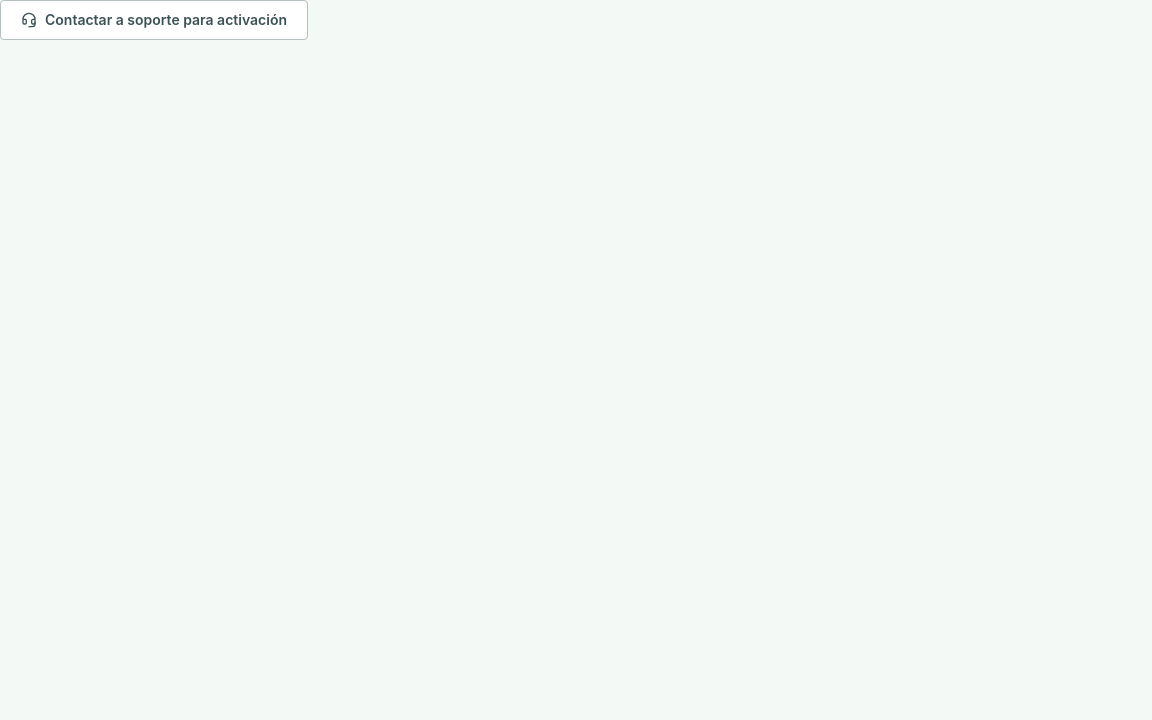
SolicitudActivacion › no envía si el teléfono o el correo no son válidos
Click the button "Contactar a soporte para activación" at (154, 20), box [0,0,308,40]
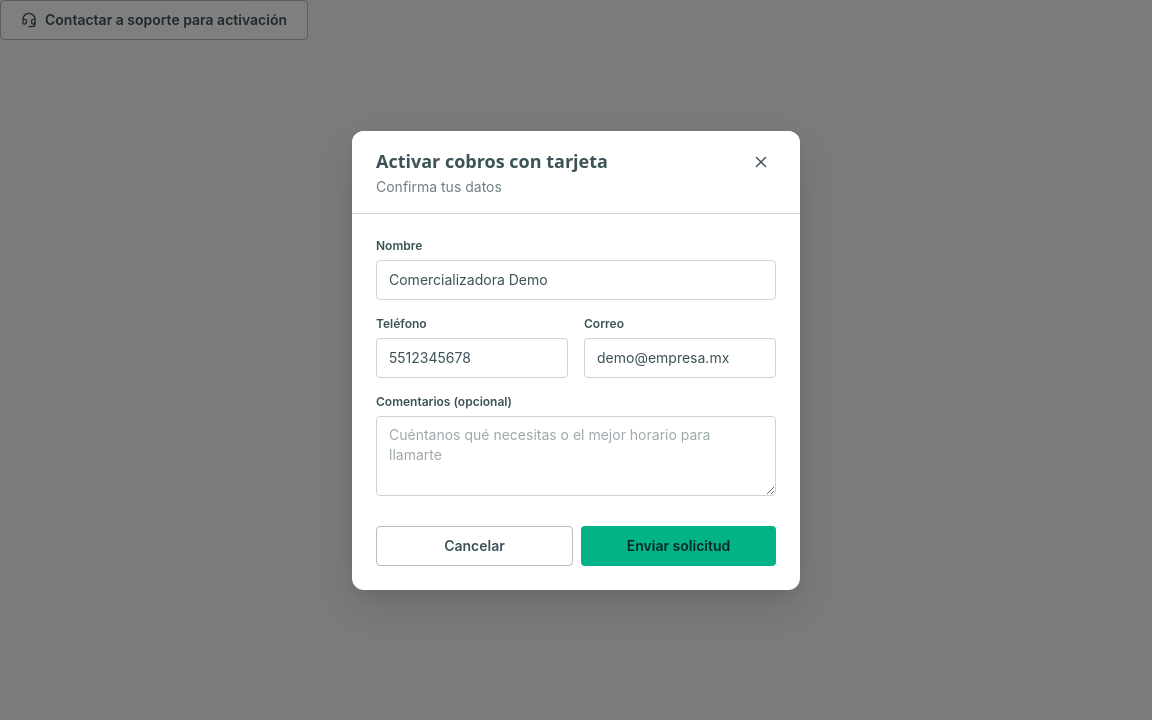
Replace the text in the field labelled "Teléfono" with "123" at (472, 358), box [376,338,568,378]
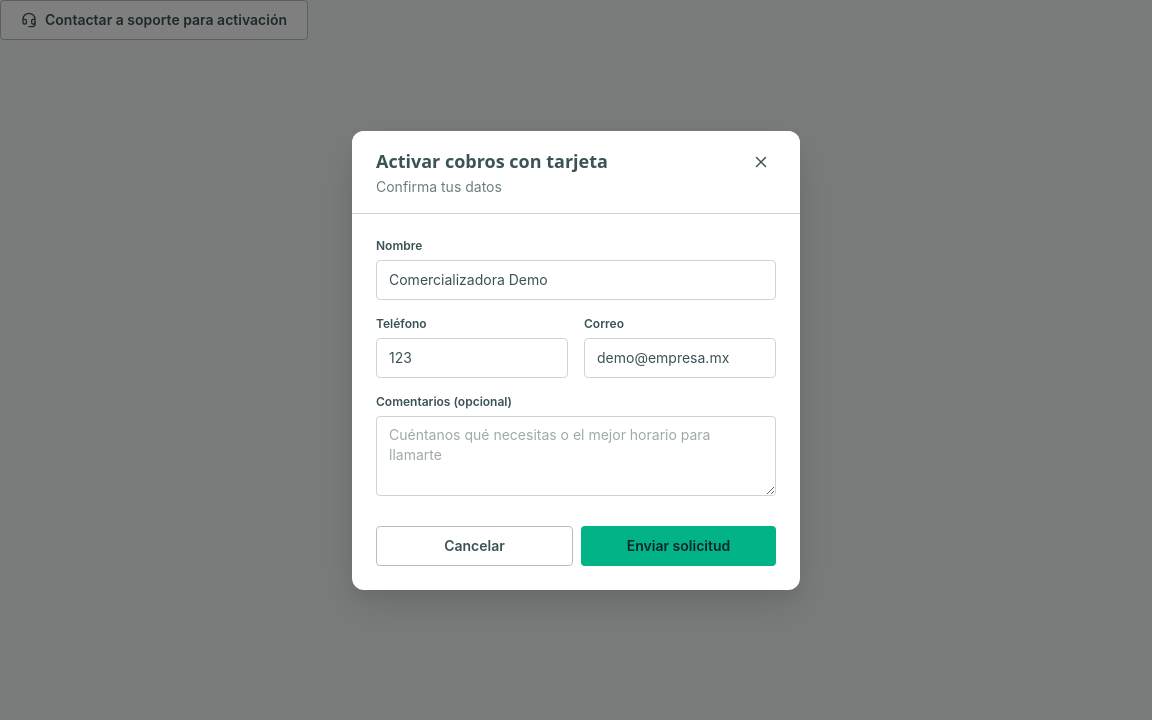
«a@b» pasa la validación propia del navegador pero no la nuestra (falta el dominio completo).
Replace the text in the field labelled "Correo" with "a@b" at (680, 358), box [584,338,776,378]
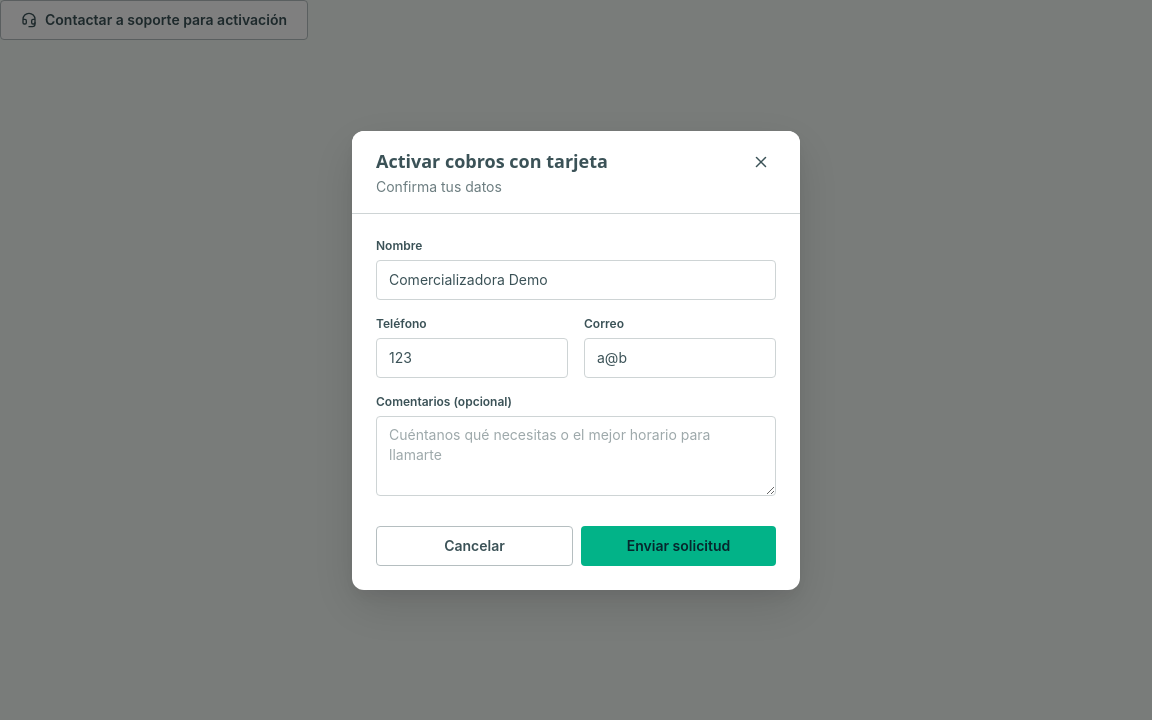
Click the button "Enviar solicitud" at (678, 546), box [581,526,776,566]
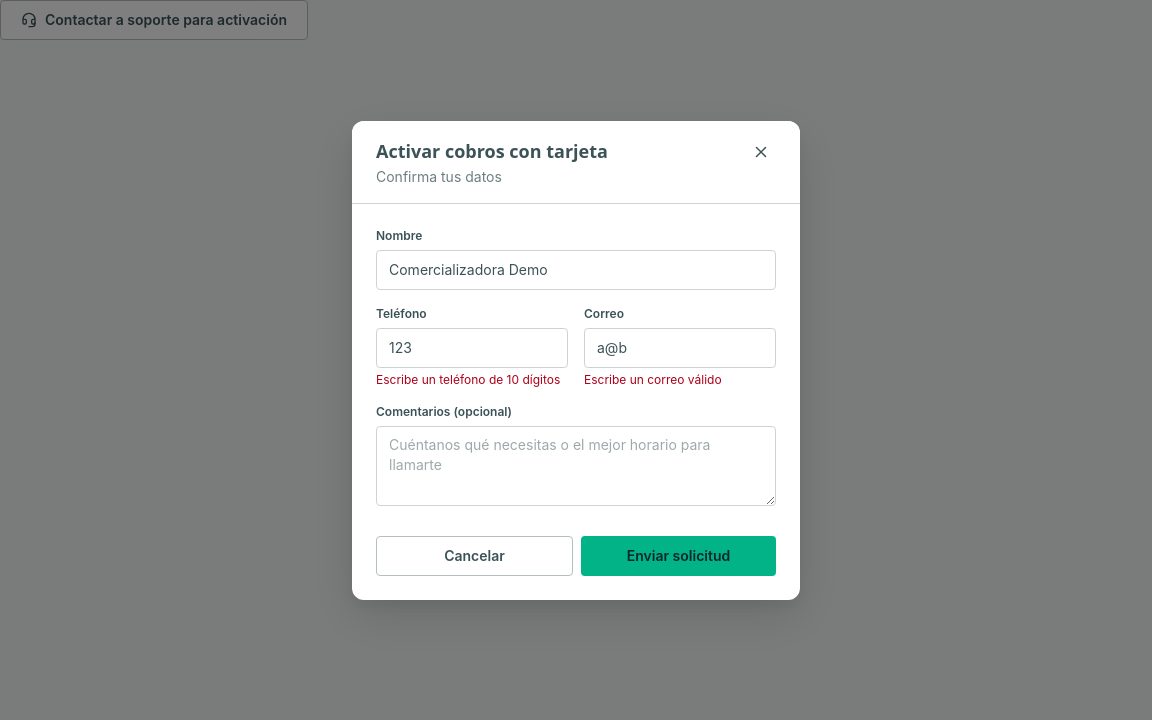
expect the text "Escribe un teléfono de 10 dígitos" is shown: met, box [376,372,568,388]
expect the text "Escribe un correo válido" is shown: met, box [584,372,722,386]
